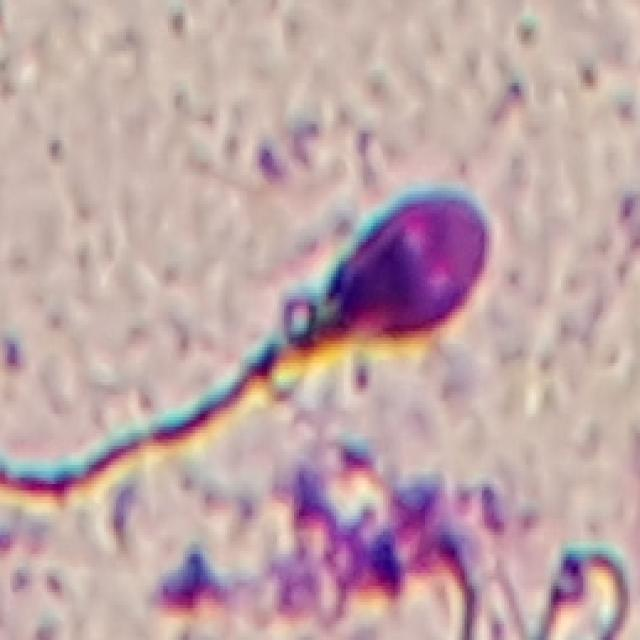normal sperm: (227, 188, 494, 405)
